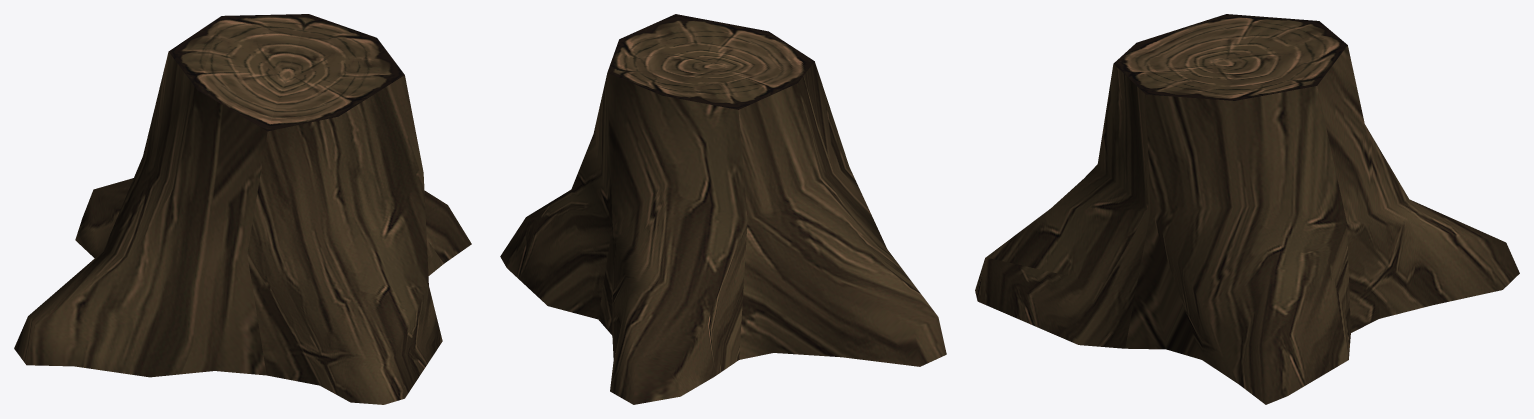
File: fanasty_mod_stump01.fbx
3 renders of one model, left to right at view 1: azimuth 30°, elevation 25°; view 2: azimuth 150°, elevation 25°; view 3: azimuth 270°, elevation 25°, orthographic. The views are drawn at different scales.
Visible parts, largest first — view 1: stump_01; view 2: stump_01; view 3: stump_01.
Part boxes in pixels (bbox=[...]): stump_01: bbox=[14, 14, 471, 404]; stump_01: bbox=[500, 14, 946, 404]; stump_01: bbox=[975, 14, 1519, 404].
Bounding box in the file's own units: 2.23 × 1.17 × 2.26.
